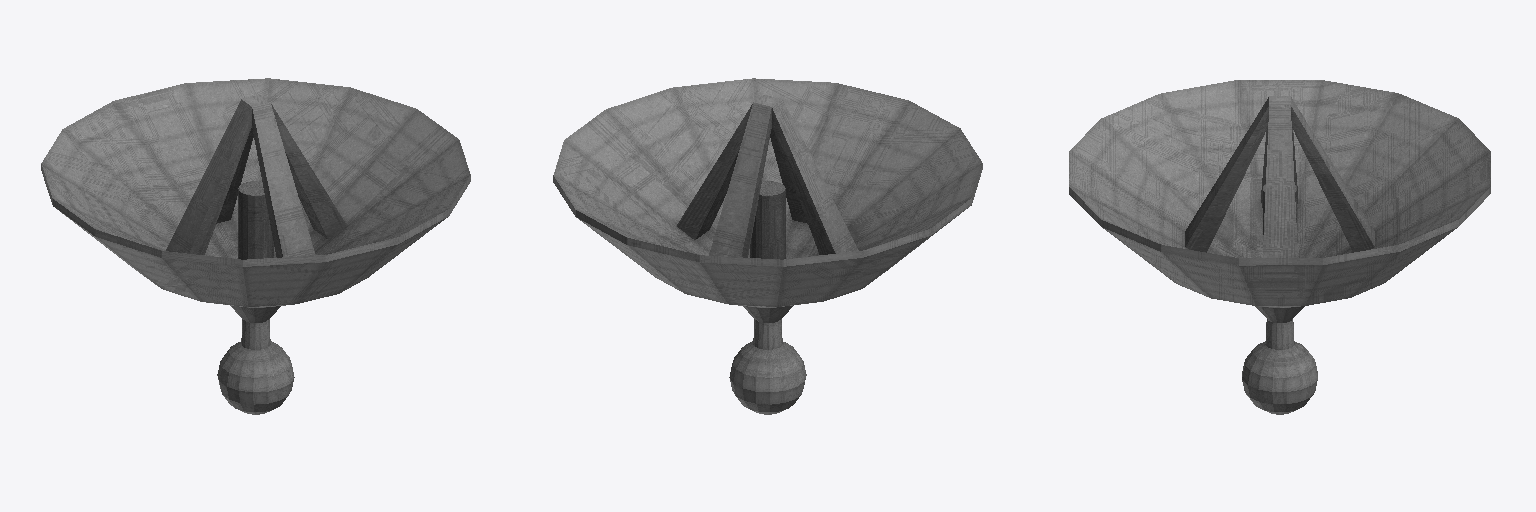
The picture shows the model from 3 angles: view 1: azimuth 30°, elevation 25°; view 2: azimuth 150°, elevation 25°; view 3: azimuth 270°, elevation 25°; orthographic projection.
Visible parts, largest first — view 1: Antenna1_Cylinder; view 2: Antenna1_Cylinder; view 3: Antenna1_Cylinder.
Boxes of the visible parts, x1,y1,x2,y2 form: Antenna1_Cylinder: [41, 78, 470, 414]; Antenna1_Cylinder: [553, 78, 982, 414]; Antenna1_Cylinder: [1069, 80, 1490, 414].
Size of the model in its own units: 3.93 by 3.19 by 3.93.
Materials: 1 (1 with a texture image).